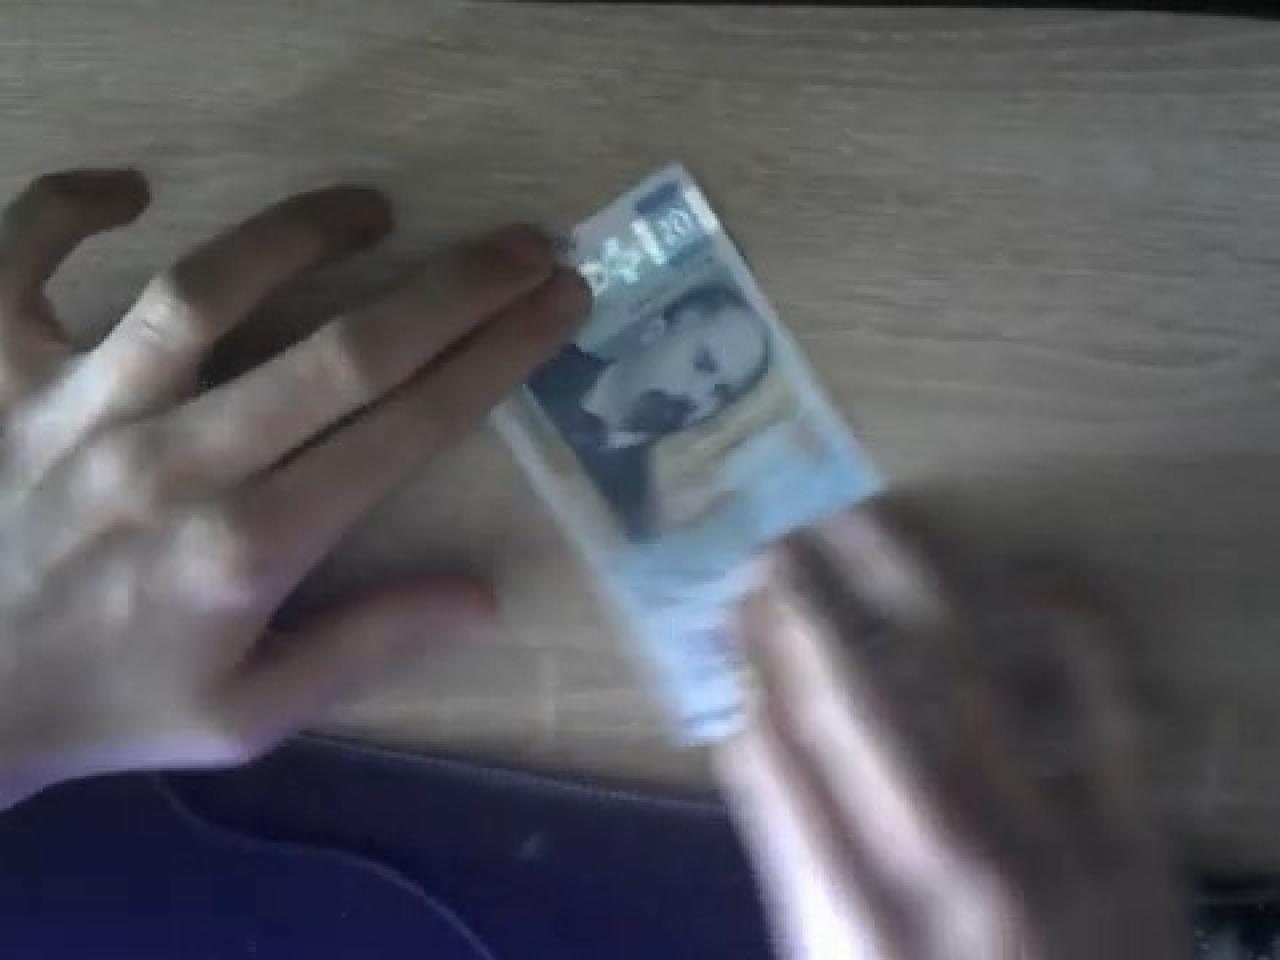20leva: (488, 157, 885, 749)
